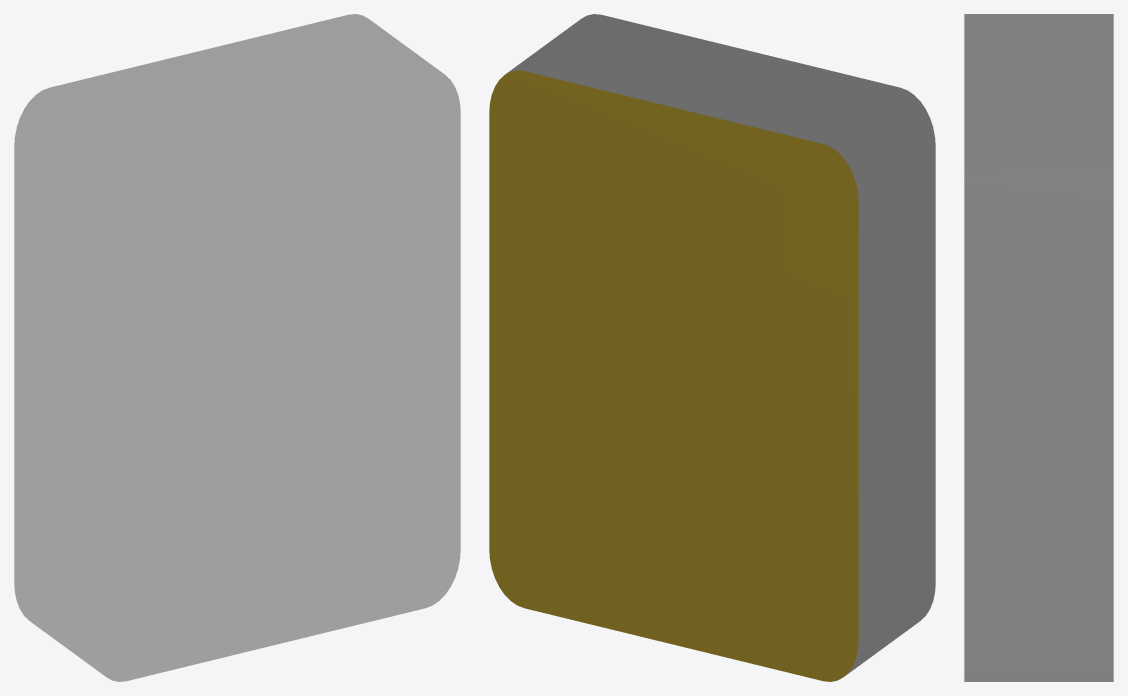
3 views of the same model, side by side, from view 1: azimuth 30°, elevation 25°; view 2: azimuth 150°, elevation 25°; view 3: azimuth 270°, elevation 25° (orthographic). The views are drawn at different scales.
Parts seen in each view (by area): view 1: Cube; view 2: Cube; view 3: Cube.
Boxes of the visible parts, bbox=[...] form: Cube: bbox=[14, 14, 460, 681]; Cube: bbox=[489, 14, 935, 681]; Cube: bbox=[964, 14, 1113, 681].
Bounding box in the file's own units: 341 × 473 × 123.
